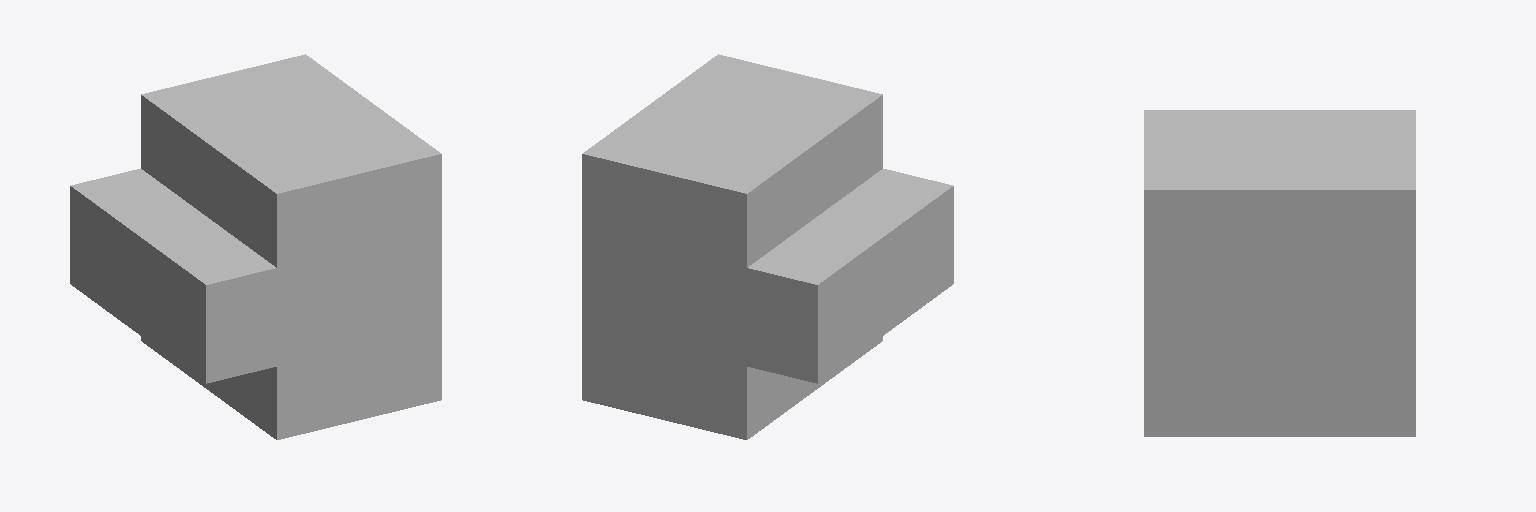
File: cube_leg_short.obj
3 views of the same model, side by side, from view 1: azimuth 30°, elevation 25°; view 2: azimuth 150°, elevation 25°; view 3: azimuth 270°, elevation 25° (orthographic).
Visible parts, largest first — view 1: peg_cube_leg_short; view 2: peg_cube_leg_short; view 3: peg_cube_leg_short.
Boxes of the visible parts, <box> form: peg_cube_leg_short: <box>70,54,441,439</box>; peg_cube_leg_short: <box>582,54,953,439</box>; peg_cube_leg_short: <box>1144,110,1415,436</box>.
Bounding box in the file's own units: 0.02 × 0.02 × 0.02.